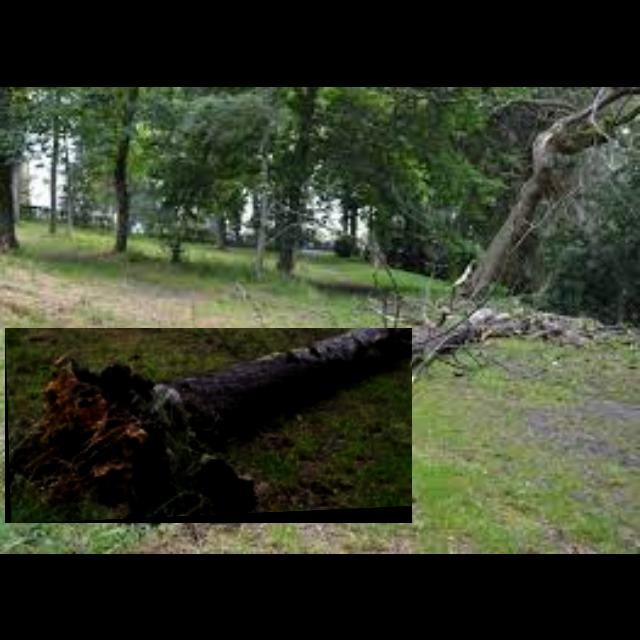Fallen Tree: (5, 328, 413, 524)
